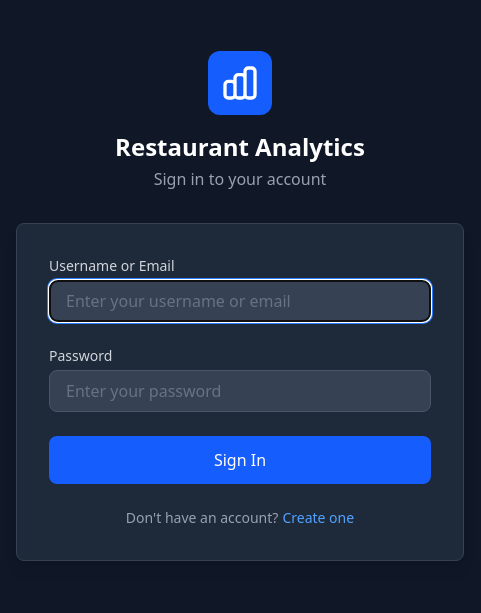
Test: Login Page › shows error for empty password
The image size is (481, 613).
Step 1. Type "testuser" into the field labelled "Username or Email" → {"x": 240, "y": 301}, box [49,280,431,322]
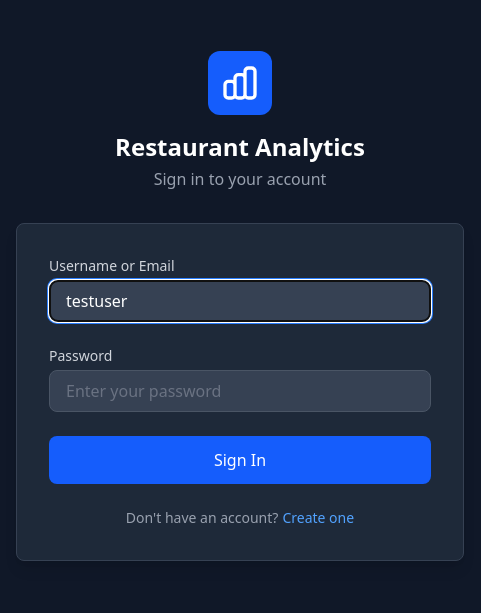
Step 2. Click the button "Sign In" → {"x": 240, "y": 460}, box [49,436,431,484]
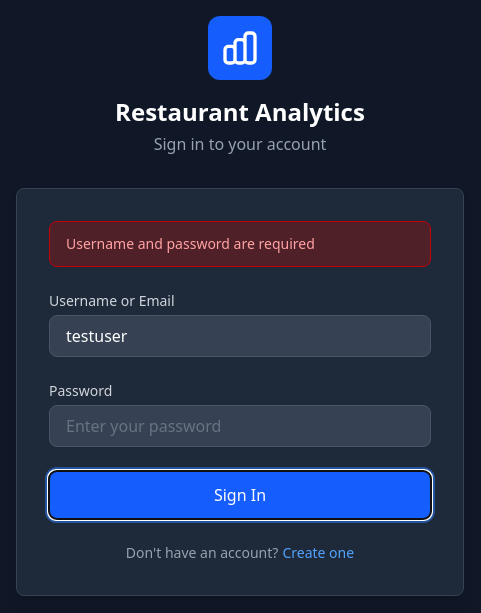
Expected: the text "Username and password are required" is shown, [49,221,431,267]
